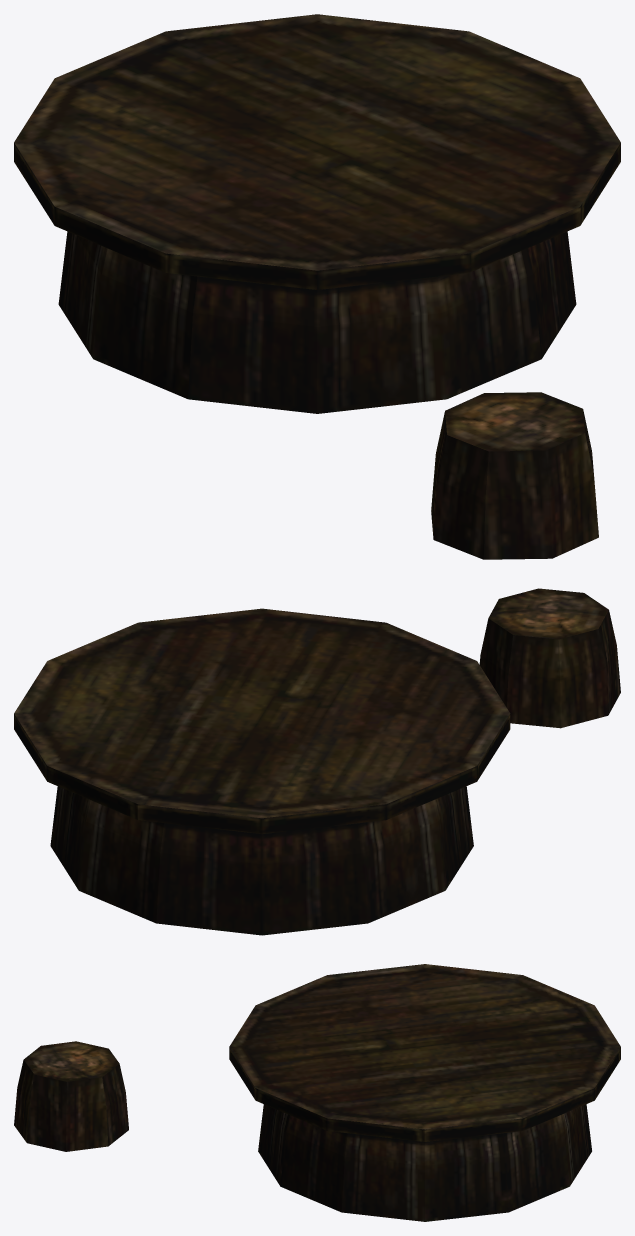
The picture shows the model from 3 angles, top to bottom: view 1: azimuth 30°, elevation 25°; view 2: azimuth 150°, elevation 25°; view 3: azimuth 270°, elevation 25°; orthographic projection. The views are drawn at different scales.
Visible parts, largest first — view 1: Sphere01; view 2: Sphere01; view 3: Sphere01.
Part boxes in pixels (box(x1,y1,x2,y2)): Sphere01: box(14, 14, 620, 559); Sphere01: box(14, 588, 620, 935); Sphere01: box(14, 964, 620, 1221).
Bounding box in the file's own units: 2.71 × 0.8014 × 4.2.
Materials: 1 (1 with a texture image).
